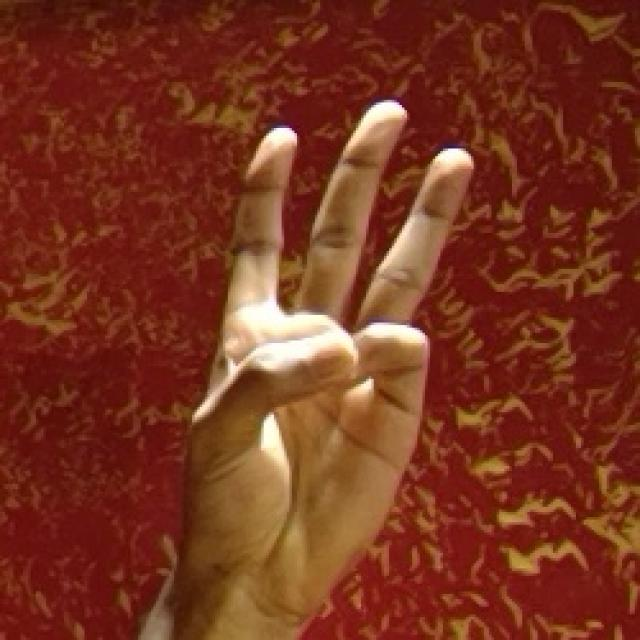Numeric-6: (162, 92, 486, 580)
